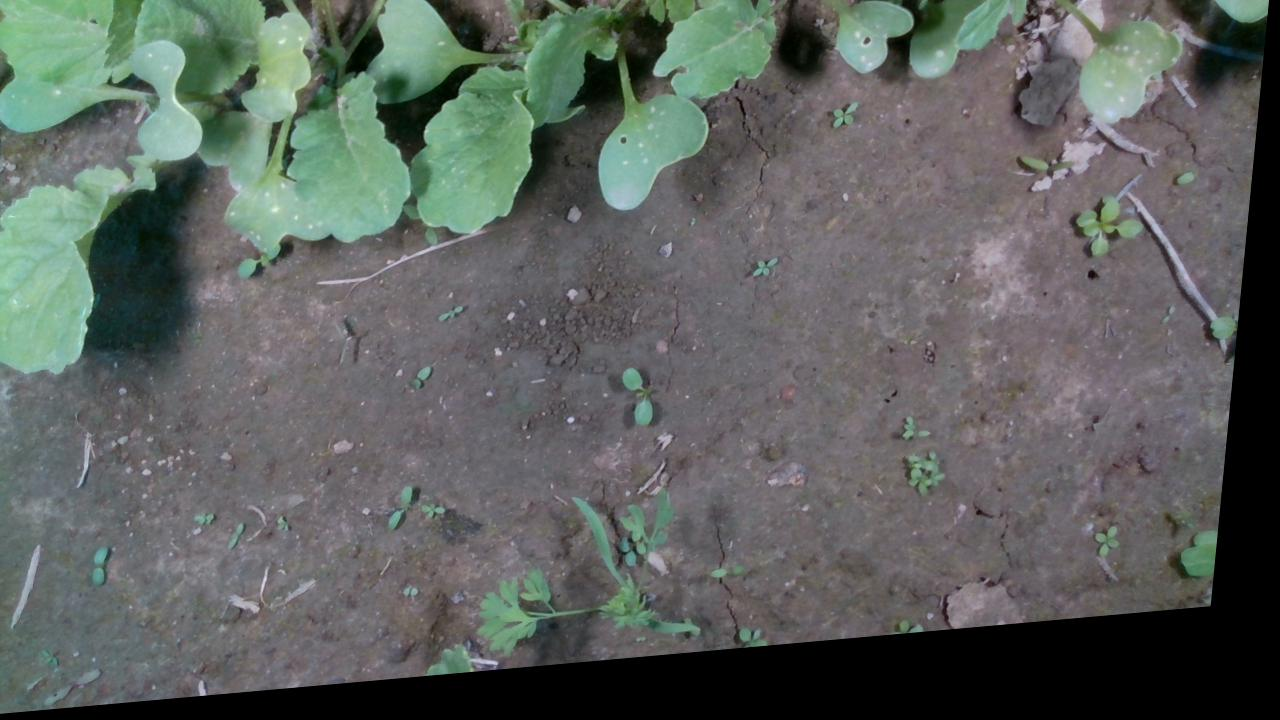weed: (626, 377, 667, 441), (395, 491, 424, 538), (1104, 545, 1133, 579), (99, 547, 120, 590), (835, 115, 865, 143), (757, 271, 785, 293), (718, 579, 762, 593), (429, 509, 458, 529), (235, 525, 254, 555), (445, 314, 472, 329)
